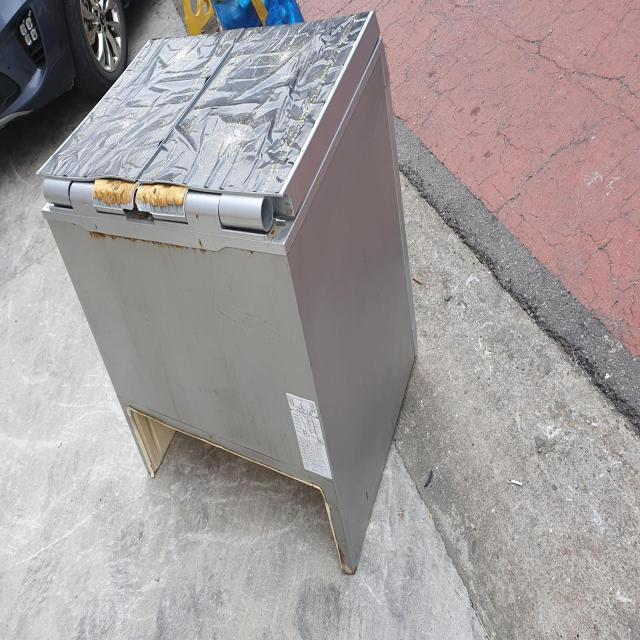refrigerator: (36, 7, 423, 576)
